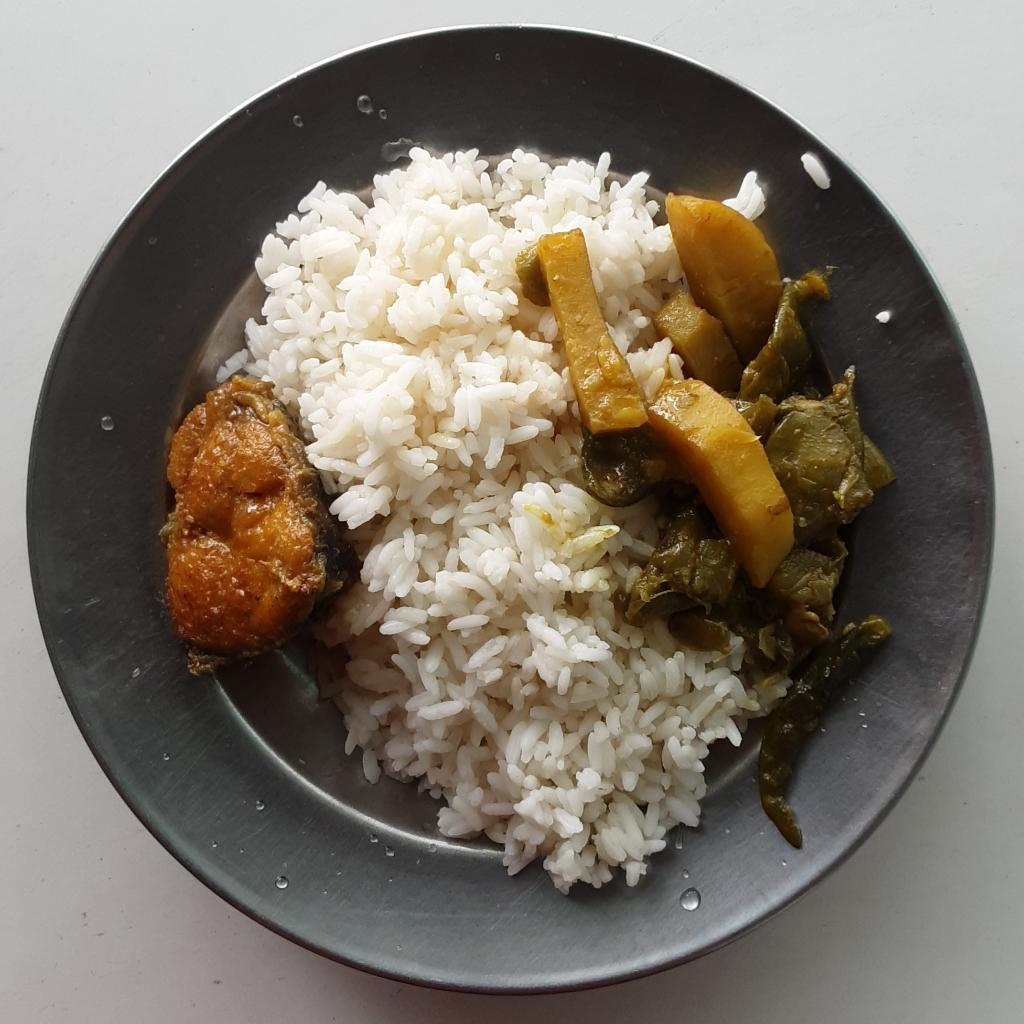fish: (164, 384, 354, 669)
potato: (537, 191, 795, 593)
rice: (218, 147, 790, 892)
shim: (578, 271, 897, 844)
